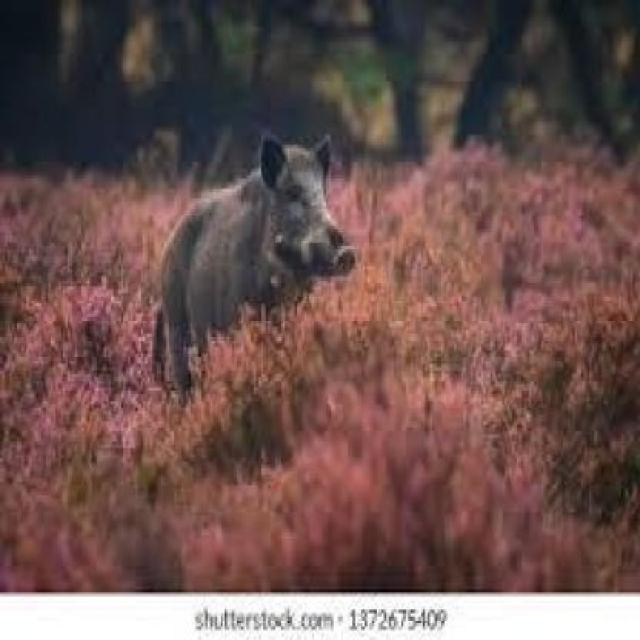wildboar: (148, 126, 355, 408)
